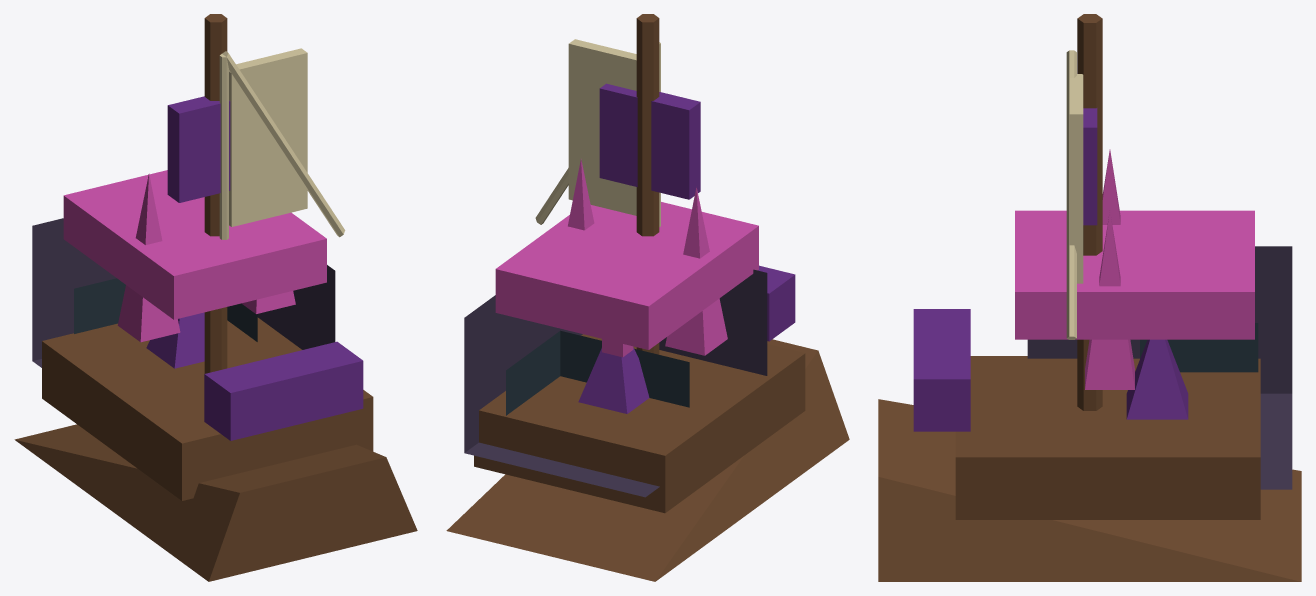
The model's file is transport-ship.obj.
3 renders of one model, left to right at view 1: azimuth 30°, elevation 25°; view 2: azimuth 150°, elevation 25°; view 3: azimuth 270°, elevation 25°, orthographic. The views are drawn at different scales.
Visible parts, largest first — view 1: ship; view 2: ship; view 3: ship.
Boxes of the visible parts, x1,y1,x2,y2 form: ship: (14, 14, 417, 581); ship: (446, 14, 849, 581); ship: (878, 14, 1301, 581).
Size of the model in its own units: 1.13 by 2.24 by 1.69.
